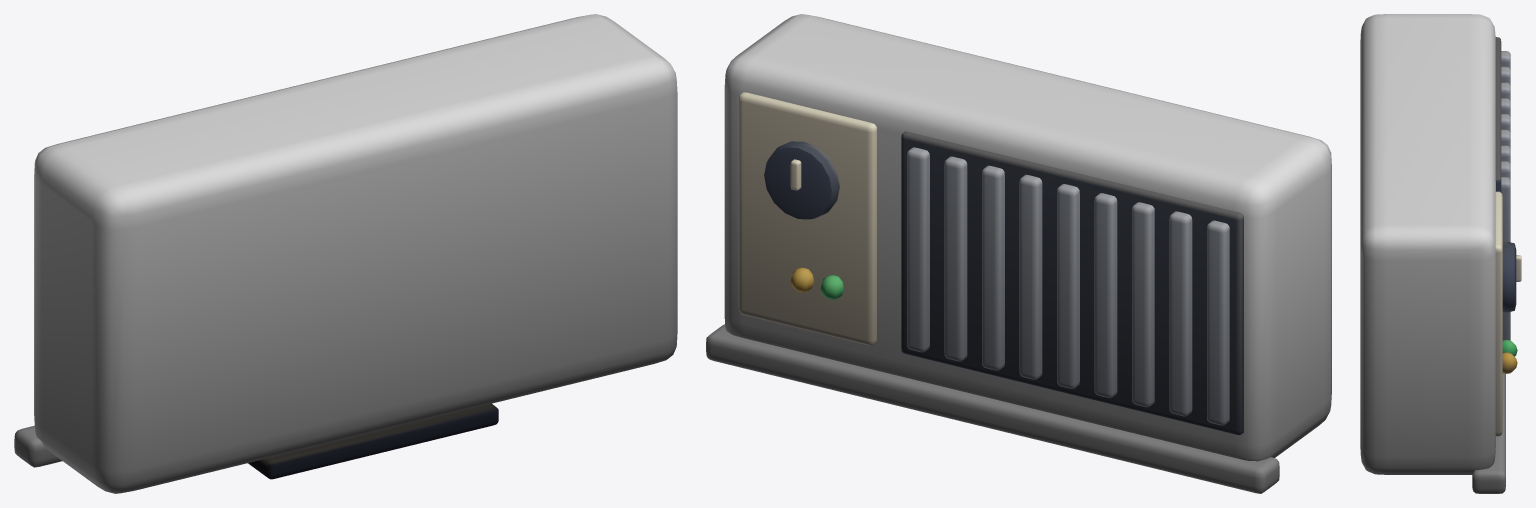
Rendered from ACUnit.fbx.
3 views of the same model, side by side, from view 1: azimuth 30°, elevation 25°; view 2: azimuth 150°, elevation 25°; view 3: azimuth 270°, elevation 25° (orthographic). The views are drawn at different scales.
Parts seen in each view (by area): view 1: SM_Prop_AC_Body, SM_Prop_AC_Front; view 2: SM_Prop_AC_Body, SM_Prop_AC_Front; view 3: SM_Prop_AC_Body, SM_Prop_AC_Front.
Part boxes in pixels (x1=…): SM_Prop_AC_Body: x1=14, y1=14, x2=677, y2=493; SM_Prop_AC_Front: x1=248, y1=403, x2=498, y2=479; SM_Prop_AC_Body: x1=706, y1=14, x2=1331, y2=493; SM_Prop_AC_Front: x1=738, y1=92, x2=1243, y2=435; SM_Prop_AC_Body: x1=1360, y1=14, x2=1505, y2=493; SM_Prop_AC_Front: x1=1495, y1=37, x2=1521, y2=436.
Bounding box in the file's own units: 4.1 × 2.18 × 1.19.
